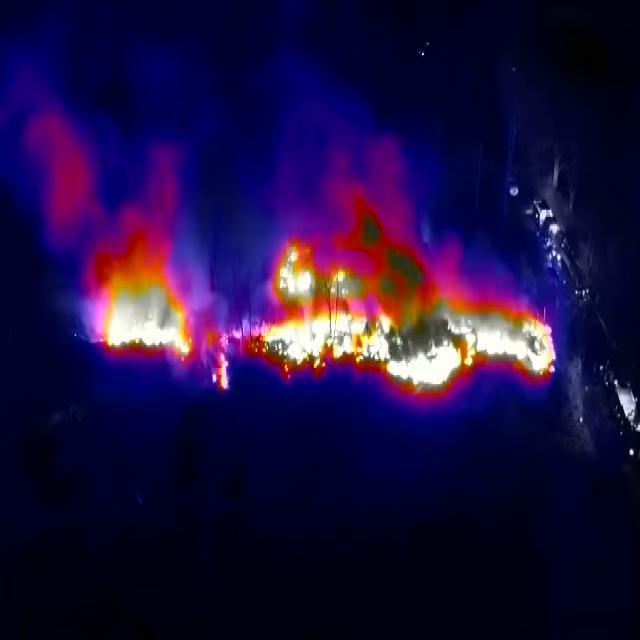fire: (203, 213, 555, 398), (95, 241, 194, 366)
